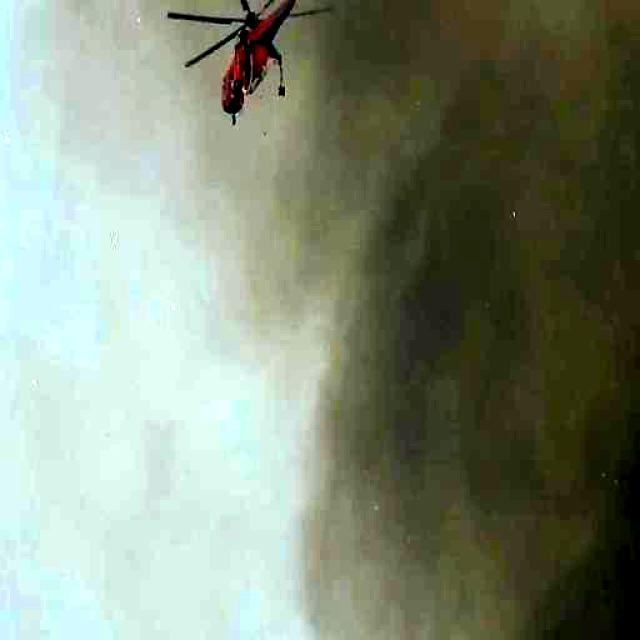drone: (158, 0, 328, 144)
